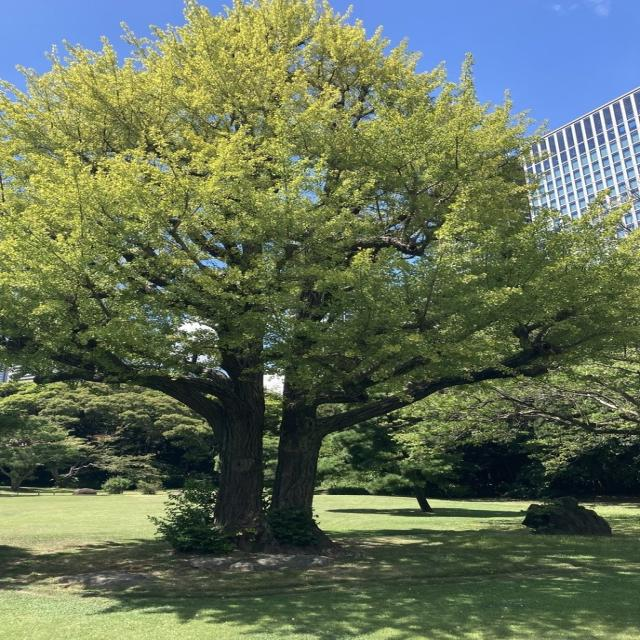ginkgo: (0, 0, 640, 557)
